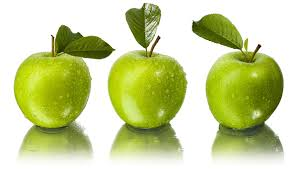apel: (205, 43, 284, 132), (105, 48, 186, 130), (12, 50, 93, 129)
